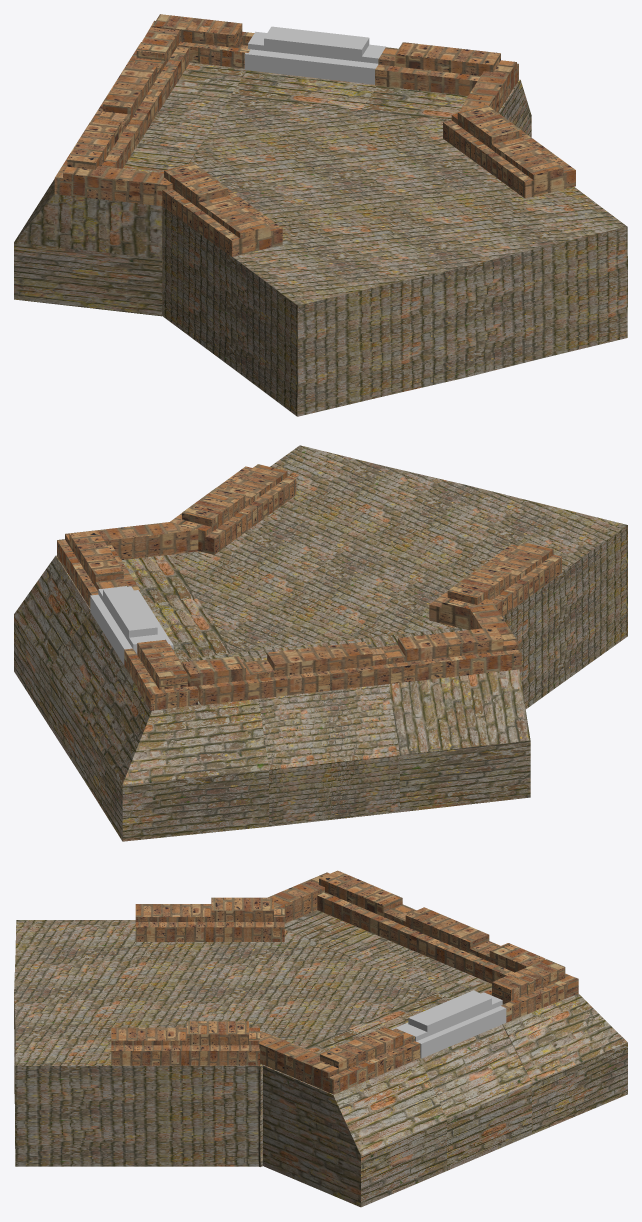
The model's file is BastionNoBFC.fbx.
3 renders of one model, top to bottom at view 1: azimuth 30°, elevation 25°; view 2: azimuth 150°, elevation 25°; view 3: azimuth 270°, elevation 25°, orthographic. The views are drawn at different scales.
Parts seen in each view (by area): view 1: RampartBody.009, RampartBody.010, Rampart.015, Rampart.014, Rampart.010, Rampart.013, Rampart.011, Rampart.012, RampartBody.011, RampartBody.012, StoneRampartWithStair.004, RampartBody.008; view 2: RampartBody.009, RampartBody.008, RampartBody.010, RampartBody.011, RampartBody.012, Rampart.012, Rampart.010, Rampart.015, Rampart.013, Rampart.014, StoneRampartWithStair.004, Rampart.011; view 3: RampartBody.009, RampartBody.012, RampartBody.011, RampartBody.008, Rampart.015, Rampart.014, Rampart.013, Rampart.012, Rampart.010, Rampart.011, StoneRampartWithStair.004, RampartBody.010.
Boxes of the visible parts, x1,y1,x2,y2 form: RampartBody.009: [50, 91, 627, 416]; RampartBody.010: [14, 143, 196, 316]; Rampart.015: [375, 42, 518, 112]; Rampart.014: [443, 105, 575, 198]; Rampart.010: [54, 118, 172, 206]; Rampart.013: [159, 163, 282, 256]; Rampart.011: [244, 26, 385, 84]; Rampart.012: [90, 27, 189, 143]; RampartBody.011: [231, 70, 376, 110]; RampartBody.012: [361, 79, 531, 137]; StoneRampartWithStair.004: [142, 14, 254, 68]; RampartBody.008: [172, 62, 246, 94]; RampartBody.009: [169, 445, 627, 826]; RampartBody.008: [84, 653, 268, 841]; RampartBody.010: [360, 627, 530, 812]; RampartBody.011: [49, 598, 231, 780]; RampartBody.012: [14, 555, 196, 725]; Rampart.012: [182, 641, 390, 705]; Rampart.010: [381, 599, 521, 683]; Rampart.015: [57, 522, 198, 608]; Rampart.013: [429, 542, 561, 629]; Rampart.014: [169, 464, 296, 554]; StoneRampartWithStair.004: [124, 639, 197, 710]; Rampart.011: [90, 586, 173, 664]; RampartBody.009: [14, 920, 469, 1166]; RampartBody.012: [263, 1029, 446, 1207]; RampartBody.011: [349, 992, 531, 1170]; RampartBody.008: [436, 975, 627, 1134]; Rampart.015: [259, 1027, 420, 1094]; Rampart.014: [111, 1021, 259, 1065]; Rampart.013: [135, 897, 284, 941]; Rampart.012: [387, 907, 545, 983]; Rampart.010: [268, 870, 413, 939]; Rampart.011: [391, 990, 506, 1058]; StoneRampartWithStair.004: [483, 959, 578, 1022]; RampartBody.010: [284, 910, 387, 956].
Size of the model in its own units: 970 by 253 by 1102.
